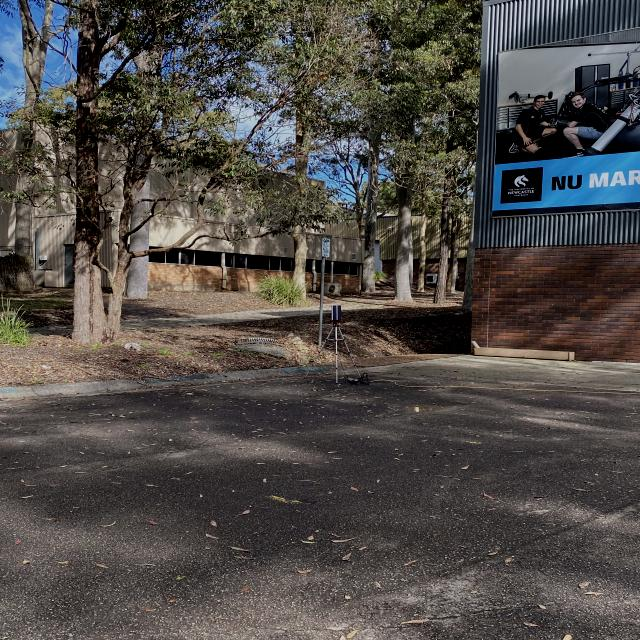matrix: (331, 304, 344, 321)
